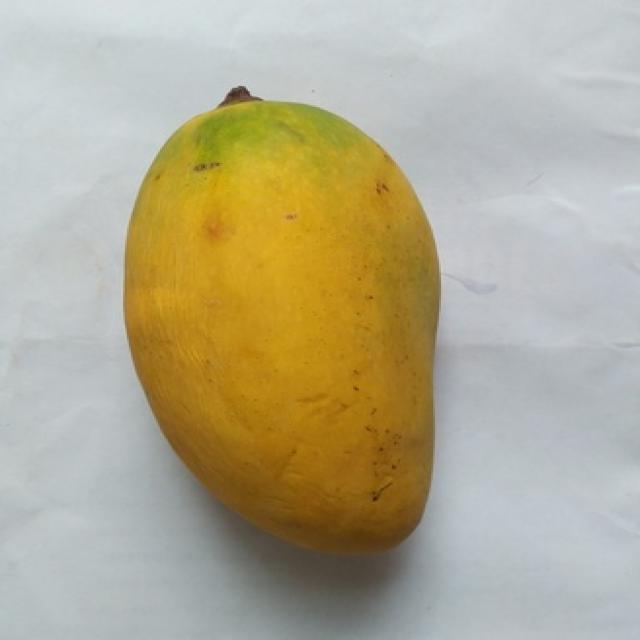Mango: (125, 88, 439, 552)
